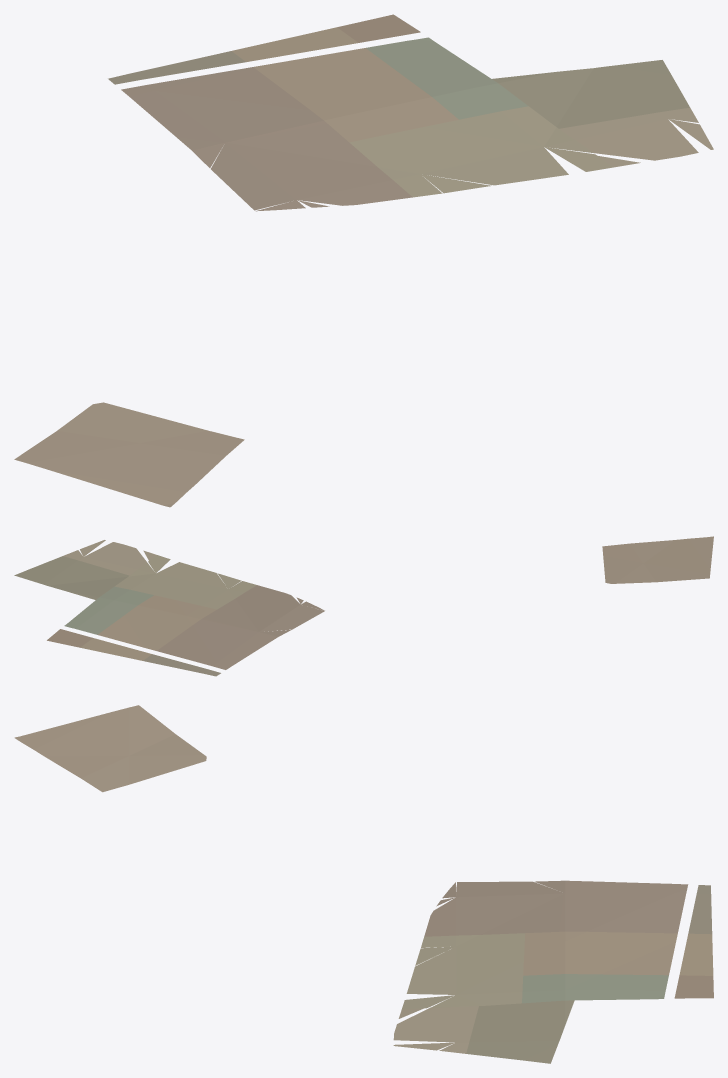
Rendered from farm_3_13_soil.glb.
3 renders of one model, top to bottom at view 1: azimuth 30°, elevation 25°; view 2: azimuth 150°, elevation 25°; view 3: azimuth 270°, elevation 25°, orthographic. The views are drawn at different scales.
Parts seen in each view (by area): view 1: geometry_0; view 2: geometry_0; view 3: geometry_0.
Part boxes in pixels (bbox=[...]): geometry_0: bbox=[14, 14, 713, 507]; geometry_0: bbox=[14, 536, 713, 676]; geometry_0: bbox=[14, 705, 713, 1063].
Bounding box in the file's own units: 594 × 14.48 × 514.
